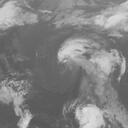cyclone: (56, 39, 116, 76)
